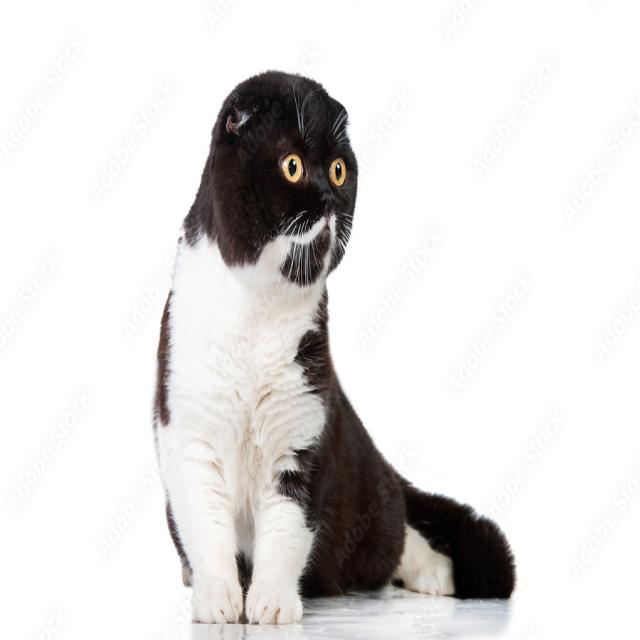Scottish Fold: (154, 67, 520, 630)
